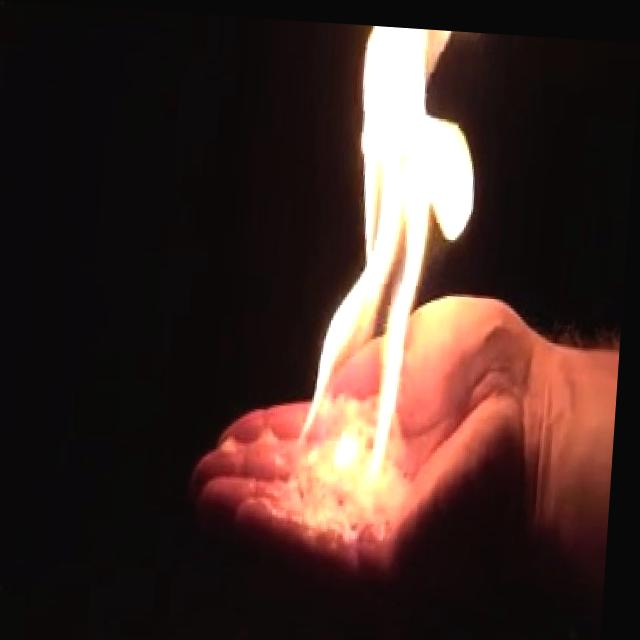Fire: (284, 16, 492, 521)
